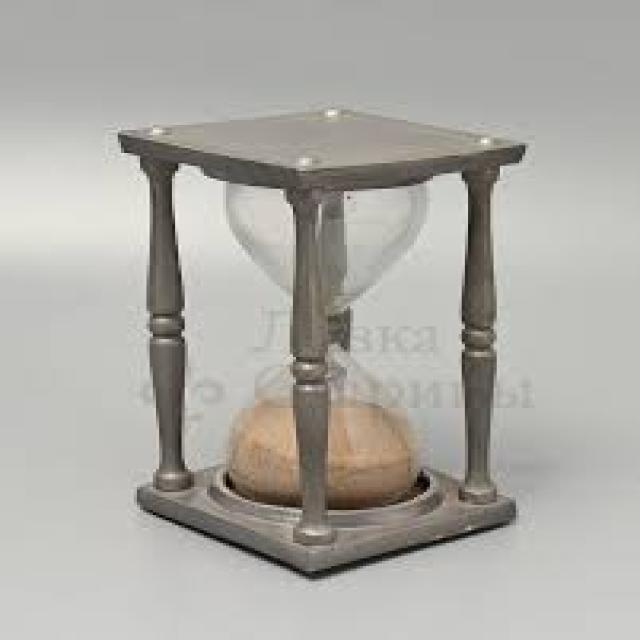clock: (114, 87, 539, 602)
